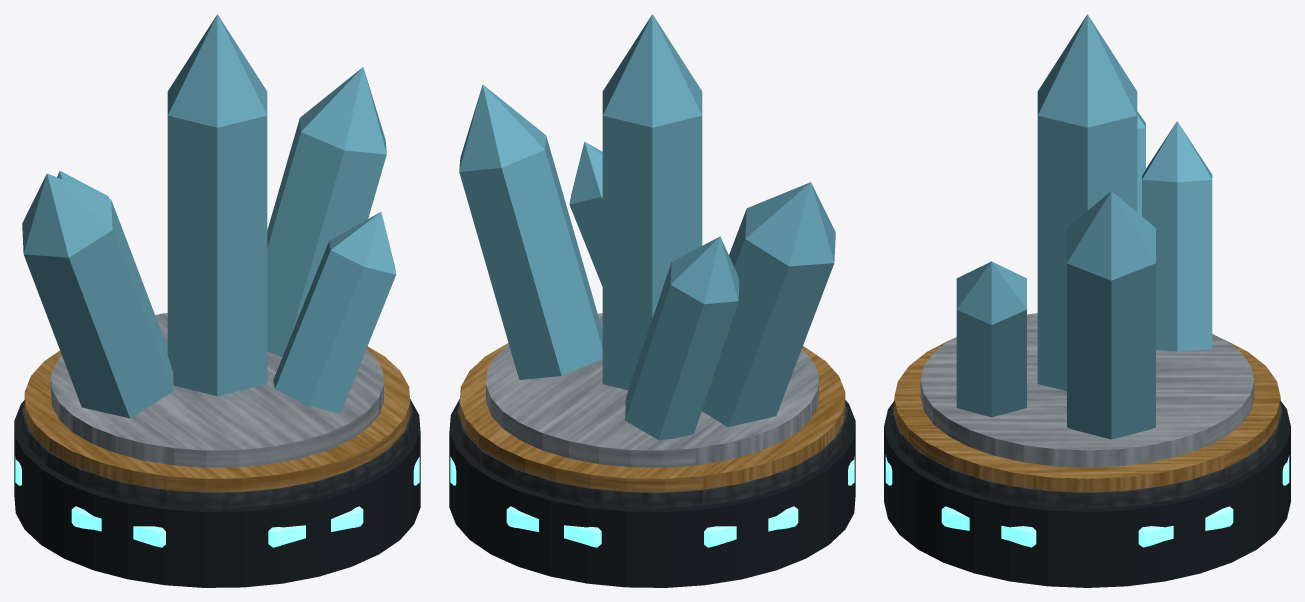
The model's file is crystal_cluster.glb.
3 renders of one model, left to right at view 1: azimuth 30°, elevation 25°; view 2: azimuth 150°, elevation 25°; view 3: azimuth 270°, elevation 25°, orthographic.
Visible parts, largest first — view 1: fixed_crystal, fixed_black, fixed_trim, fixed_brass, fixed_hull, fixed_teal; view 2: fixed_crystal, fixed_black, fixed_trim, fixed_brass, fixed_hull, fixed_teal; view 3: fixed_crystal, fixed_black, fixed_trim, fixed_brass, fixed_hull, fixed_teal.
Part boxes in pixels (box(x1,y1,x2,y2)): fixed_crystal: box(22, 14, 396, 418); fixed_black: box(14, 399, 420, 587); fixed_trim: box(51, 313, 383, 467); fixed_brass: box(24, 346, 410, 492); fixed_hull: box(22, 403, 412, 508); fixed_teal: box(15, 456, 419, 547); fixed_crystal: box(459, 14, 835, 439); fixed_black: box(449, 399, 855, 587); fixed_trim: box(486, 313, 818, 467); fixed_brass: box(459, 343, 845, 492); fixed_hull: box(457, 403, 847, 508); fixed_teal: box(450, 456, 854, 547); fixed_crystal: box(956, 14, 1212, 439); fixed_black: box(884, 401, 1290, 587); fixed_trim: box(920, 313, 1254, 467); fixed_brass: box(894, 340, 1280, 492); fixed_hull: box(892, 405, 1282, 508); fixed_teal: box(885, 455, 1289, 547).
Bounding box in the file's own units: 0.3551 × 0.45 × 0.34.
Materials: 6 (3 with a texture image).
